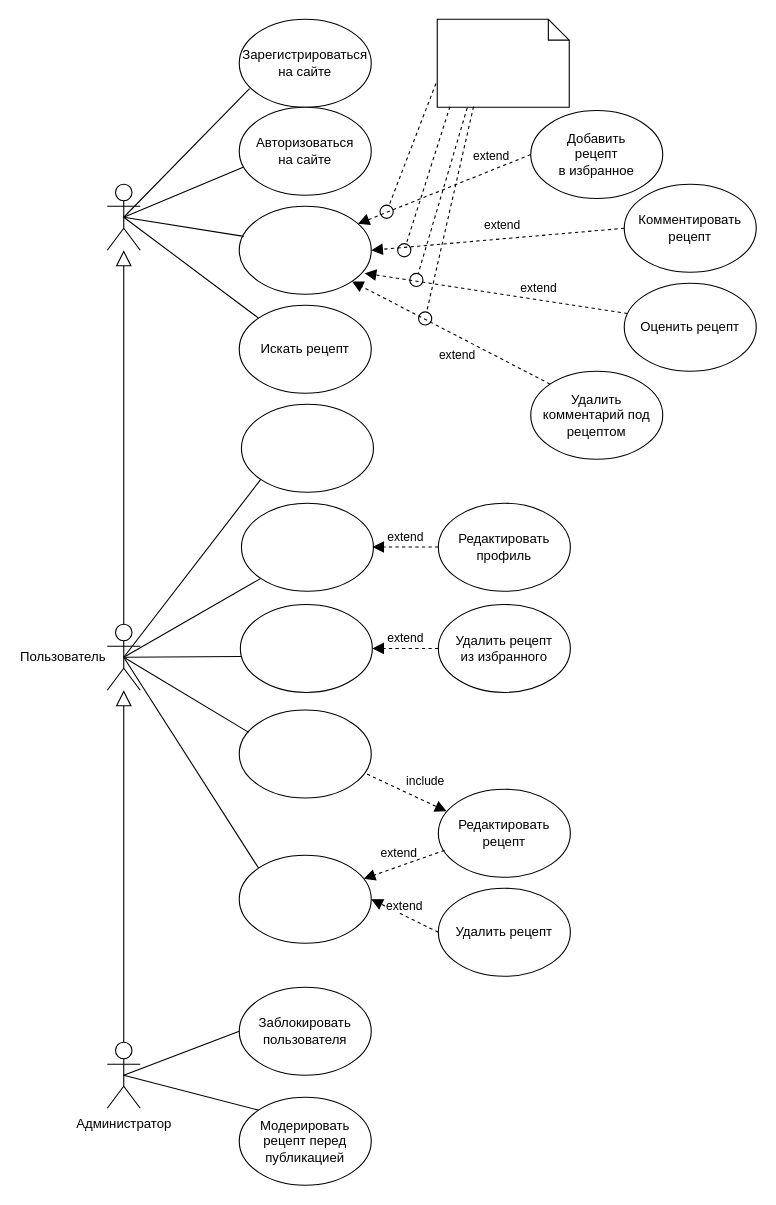
This 776x1205 diagram has some shape labels left out. The centre of each missing label's shape, as x and y in pixels:
"Выйти из профиля" goes at (306,447).
"Гость" goes at (123,216).
"Посмотреть список своих рецептов" goes at (304,898).
"Просмотреть профиль" goes at (306,546).
"Просмотреть рецепт" goes at (304,249).
"Просмотреть список избранных рецептов" goes at (305,647).
"Создать новый рецепт" goes at (304,753).
"Только если актор — Пользователь или Администратор" goes at (502,62).
